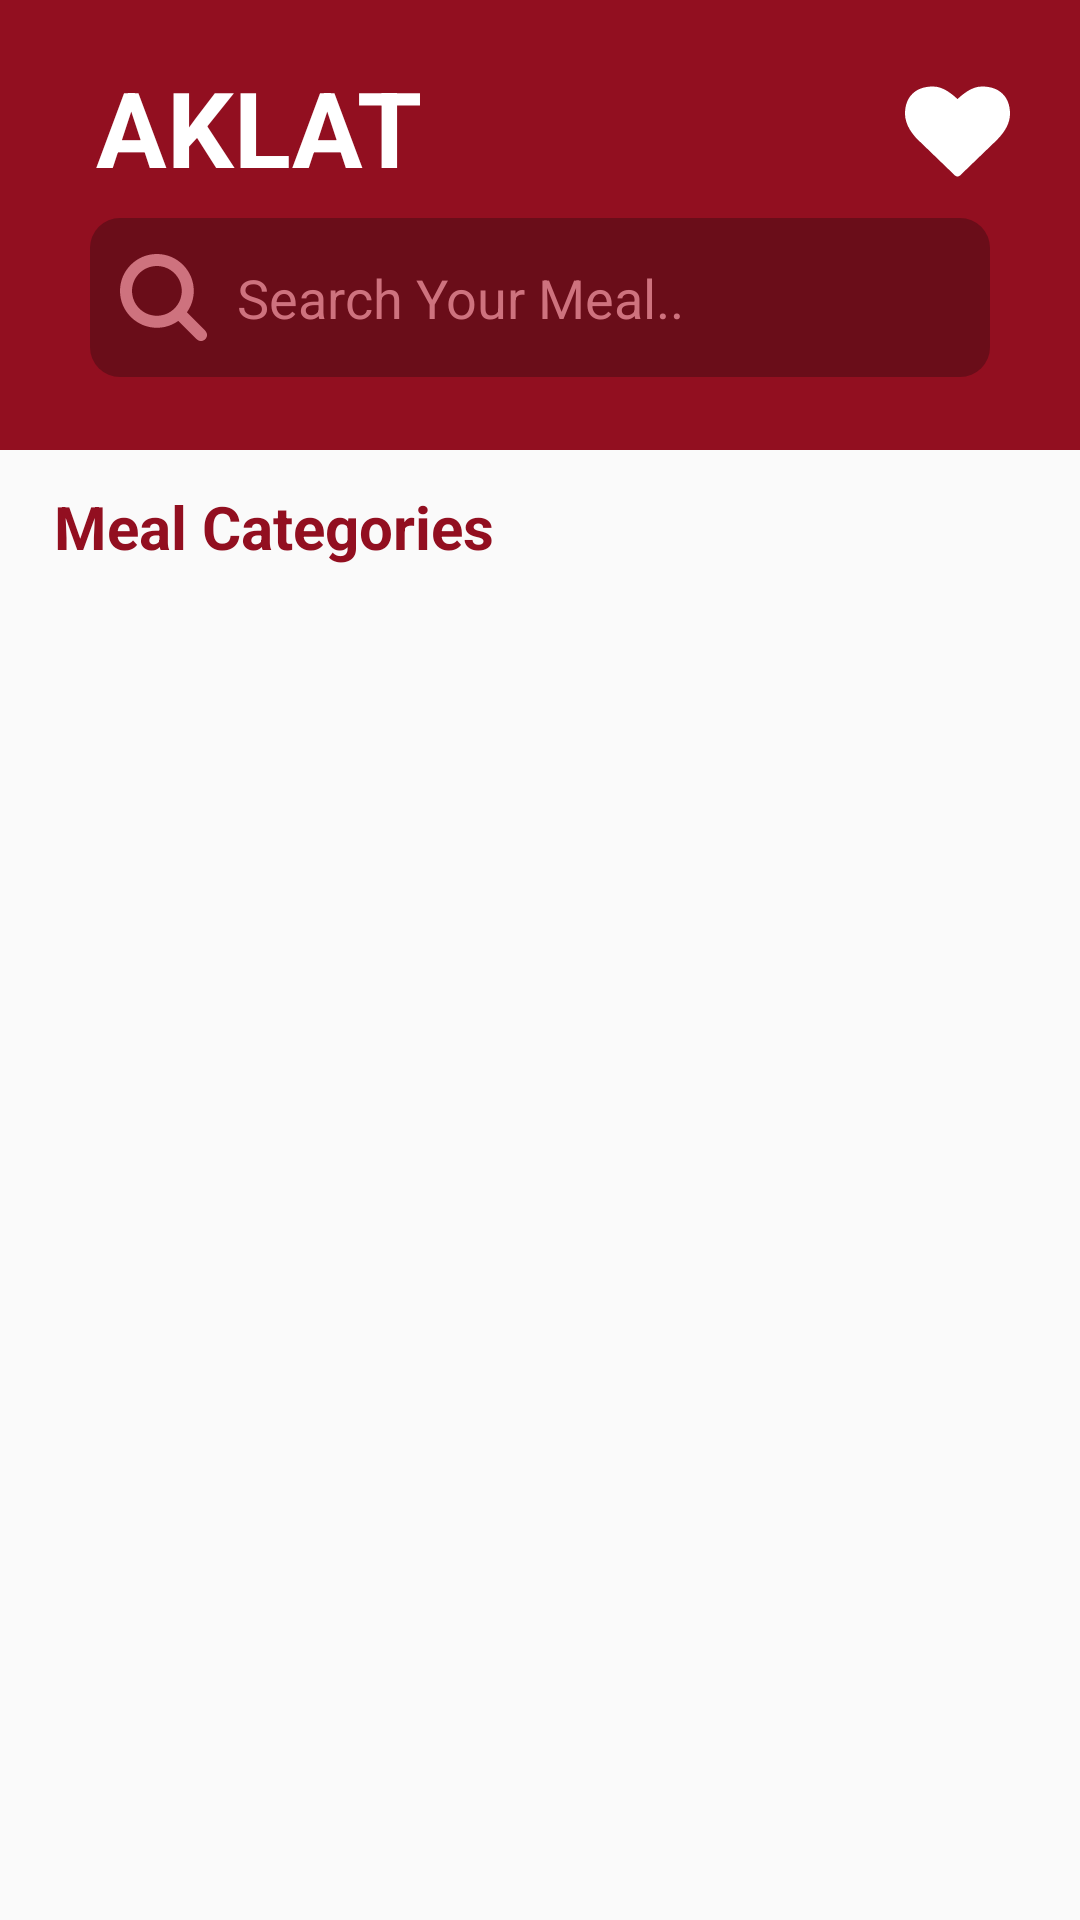

Screen size 1080w x 1920h. Icon name, then its box in pixels as [x1, y1, x2, y2]:
heart: [905, 86, 1010, 177]
